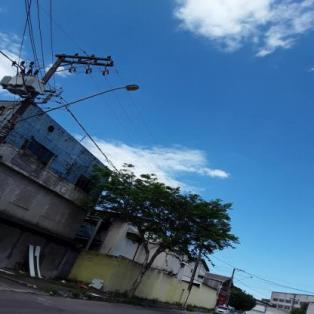Poste: (0, 52, 68, 144)
